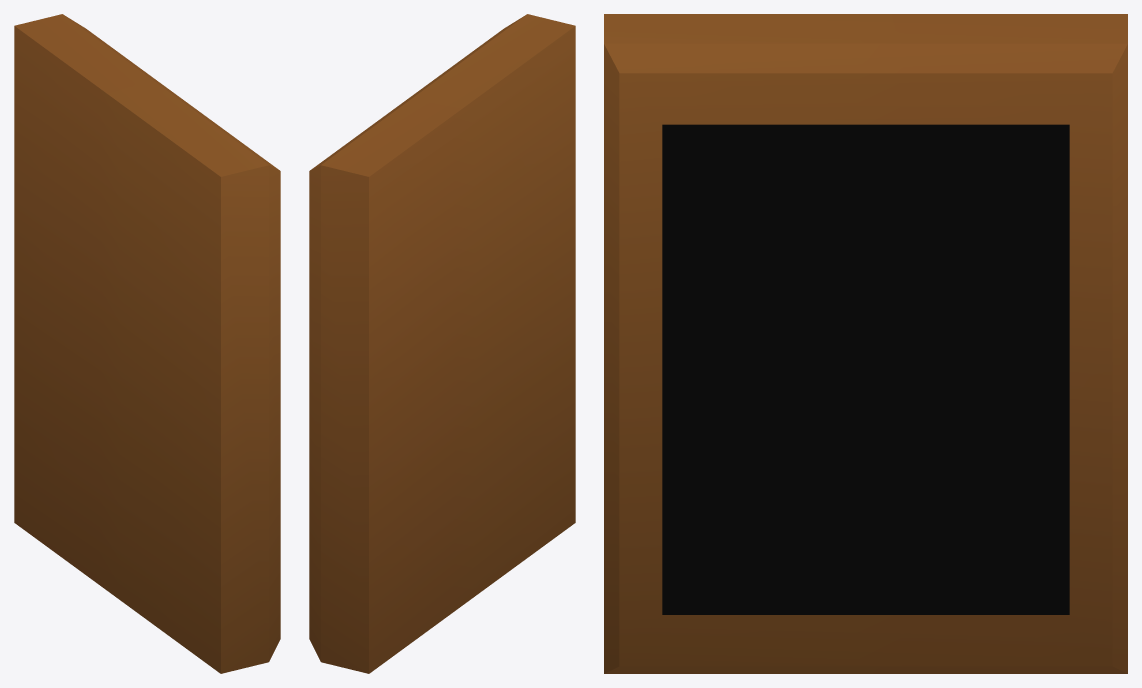
File: paint.glb
3 renders of one model, left to right at view 1: azimuth 30°, elevation 25°; view 2: azimuth 150°, elevation 25°; view 3: azimuth 270°, elevation 25°, orthographic. The views are drawn at different scales.
Parts seen in each view (by area): view 1: paint; view 2: paint; view 3: paint.
Part boxes in pixels (x1,y1,x2,y2): paint: [14, 14, 280, 673]; paint: [309, 14, 575, 673]; paint: [604, 14, 1127, 673].
Bounding box in the file's own units: 1.6 × 11.53 × 8.68.
1 material, 1 textured.
